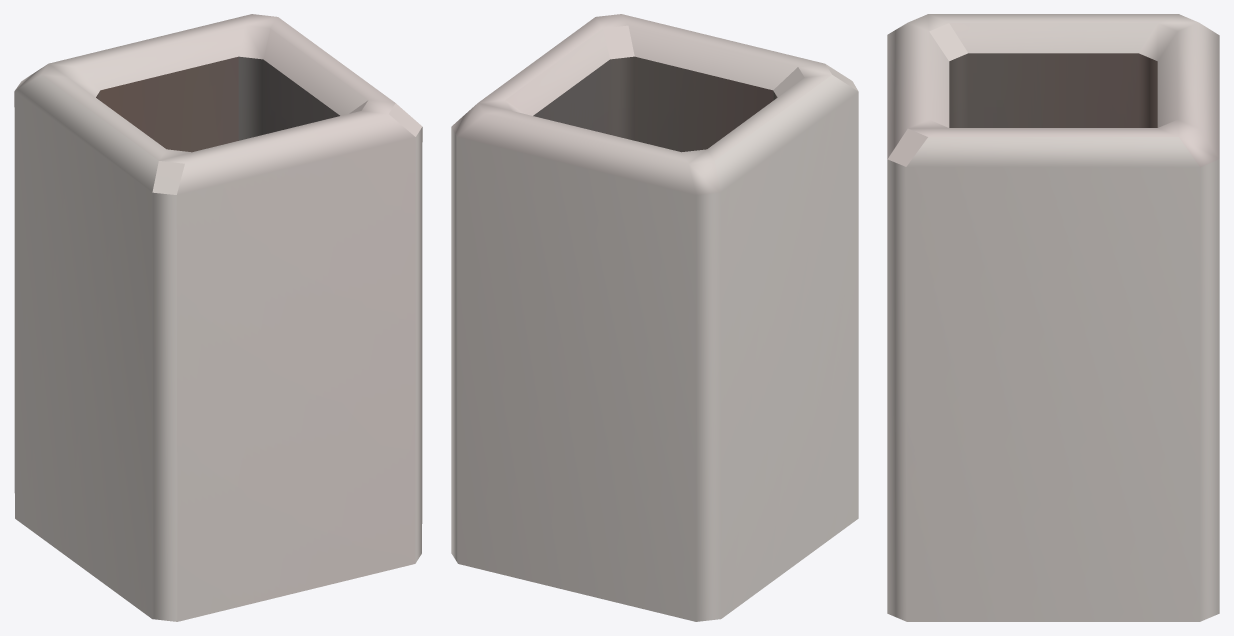
The model's file is city2-trash-can-08.glb.
3 renders of one model, left to right at view 1: azimuth 30°, elevation 25°; view 2: azimuth 150°, elevation 25°; view 3: azimuth 270°, elevation 25°, orthographic. The views are drawn at different scales.
Visible parts, largest first — view 1: Trash_Can_08; view 2: Trash_Can_08; view 3: Trash_Can_08.
Part boxes in pixels (x1,y1,x2,y2): Trash_Can_08: (14,14,422,621); Trash_Can_08: (451,14,858,621); Trash_Can_08: (887,14,1219,621).
Bounding box in the file's own units: 0.4388 × 0.6945 × 0.4388.
1 material, 1 textured.
